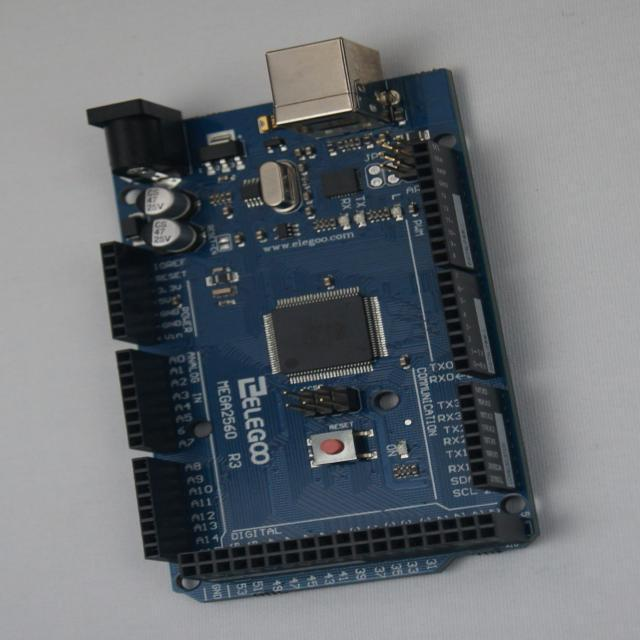Arduino Mega 2560 -Blue-: (88, 39, 535, 600)
